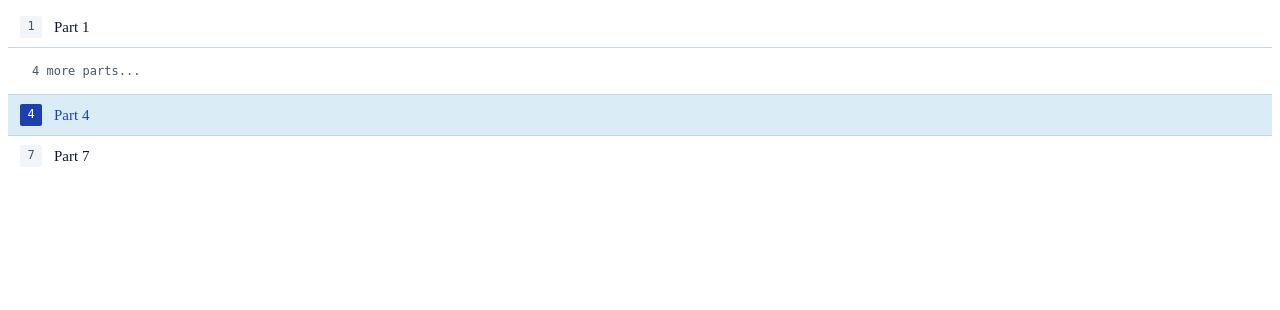
Scenario: SeriesNav 窗口化折叠 › 点击折叠占位后展开完整列表
Click the button with class "mg-series-nav-toggle": (86, 71) [20,56,1260,86]
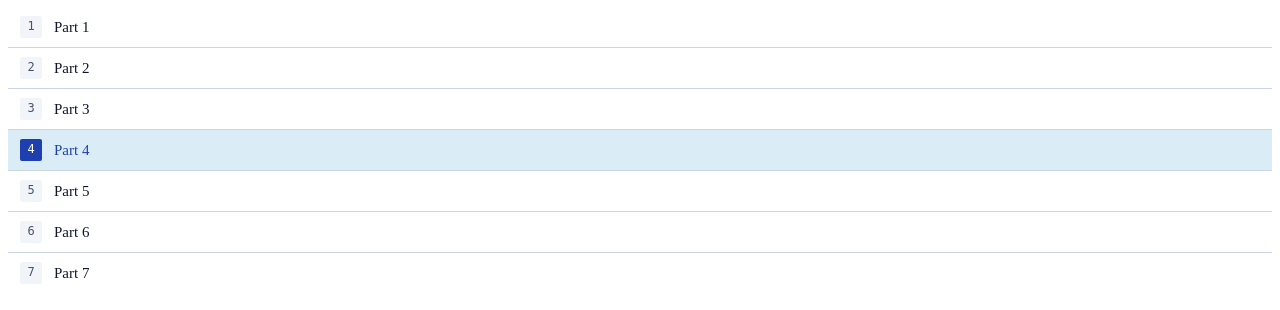
Expected: the number of list items with class "mg-series-nav-item" is 7
